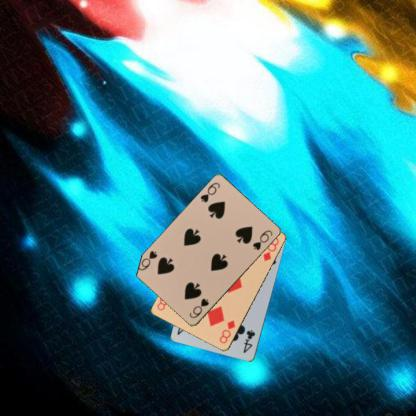4c: (241, 327, 256, 354)
6s: (198, 180, 221, 204), (187, 296, 210, 319)
8d: (217, 318, 236, 345)
